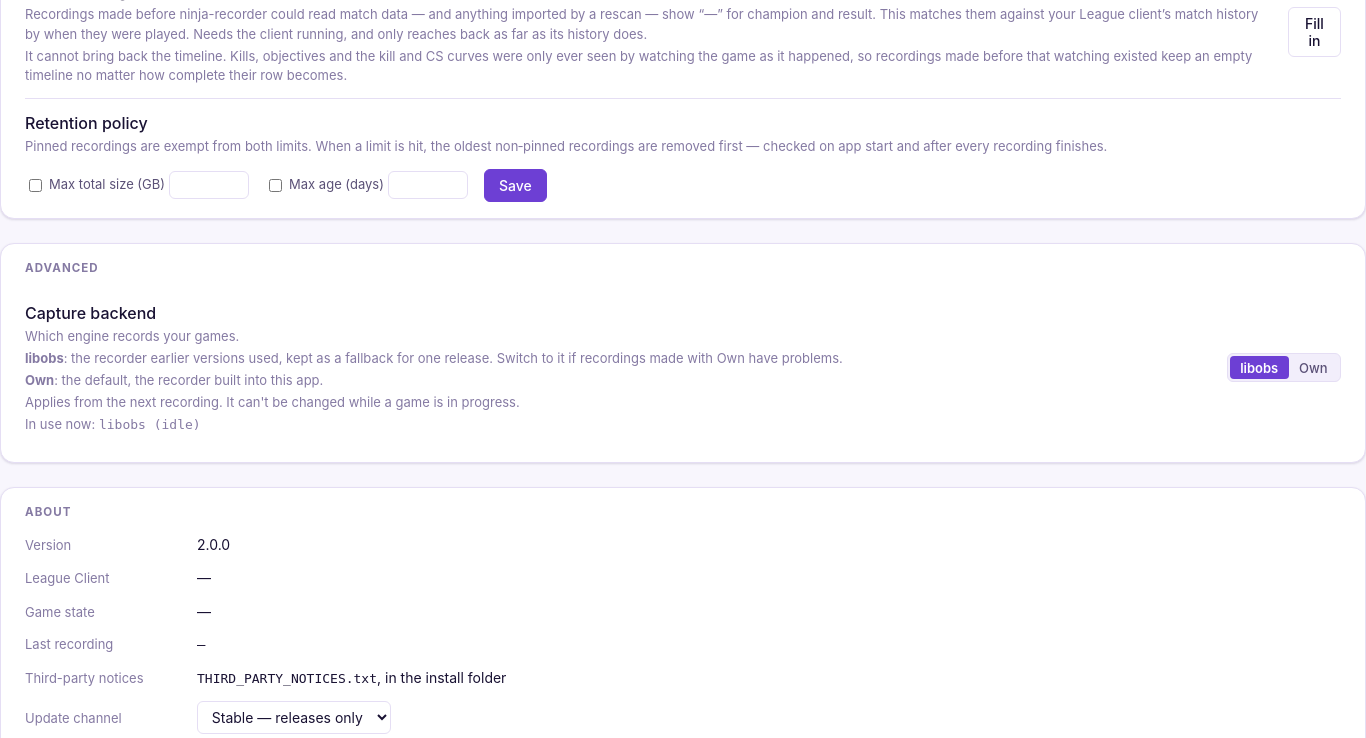
Test: the capture backend › asks the daemon to switch, and shows what it reports back
This screenshot has width=1366, height=738.
(page scrolled)
Click the radio button labelled "Own".
click(1313, 368)  # box [1289, 356, 1338, 380]
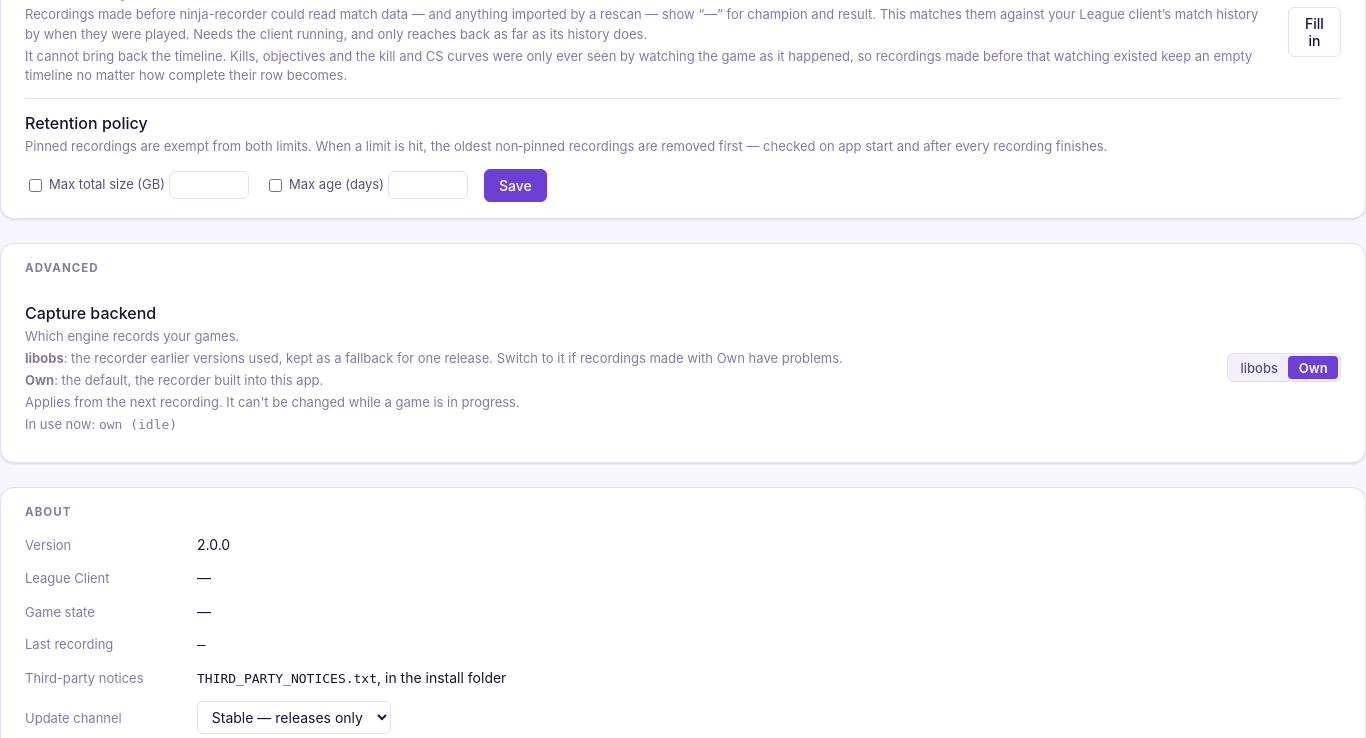
Expected: the text "own (idle)" is shown, [99, 417, 177, 432]
